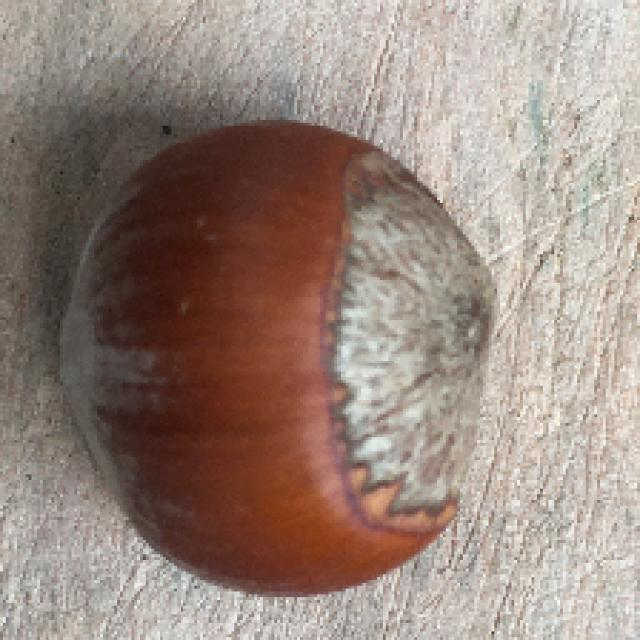QualityHazelnut: (48, 121, 501, 597)
